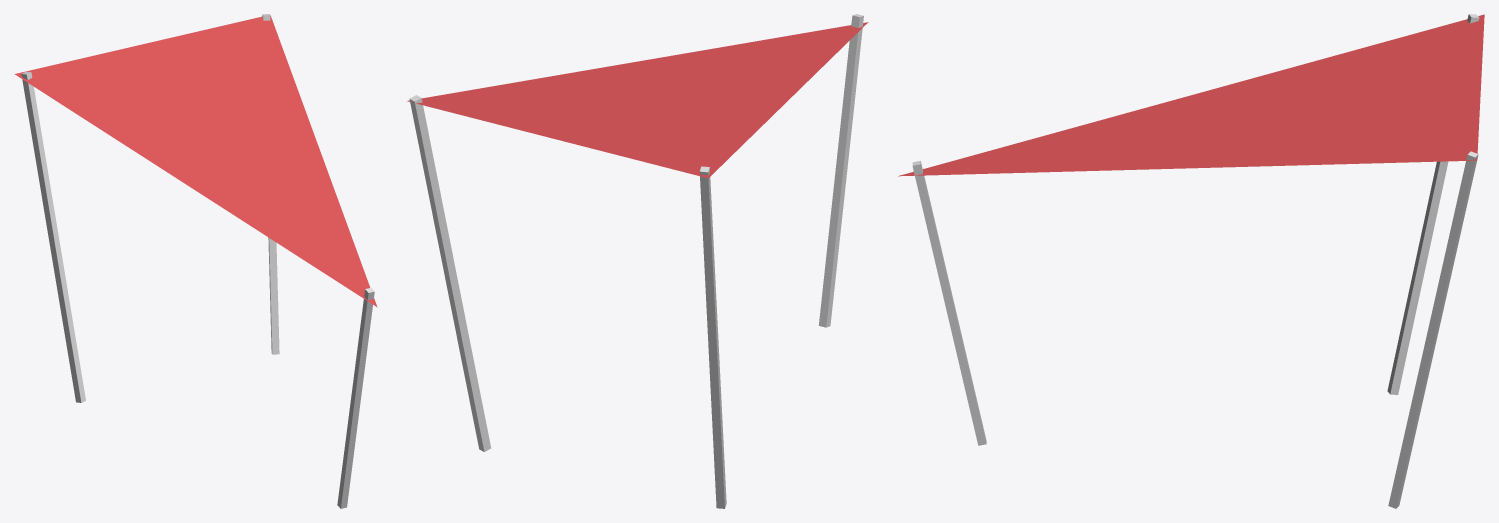
File: ShadeCloth.fbx
The picture shows the model from 3 angles, left to right: view 1: azimuth 30°, elevation 25°; view 2: azimuth 150°, elevation 25°; view 3: azimuth 270°, elevation 25°; orthographic projection. The views are drawn at different scales.
Parts seen in each view (by area): view 1: Plane.001, Cube.001, Cube, Cube.002; view 2: Plane.001, Cube.002, Cube, Cube.001; view 3: Plane.001, Cube.002, Cube.001, Cube.
Boxes of the visible parts, x1,y1,x2,y2 form: Plane.001: [14, 15, 377, 307]; Cube.001: [21, 71, 85, 402]; Cube: [337, 288, 374, 508]; Cube.002: [262, 14, 279, 354]; Plane.001: [407, 22, 868, 178]; Cube.002: [409, 95, 490, 451]; Cube: [818, 14, 863, 327]; Cube.001: [699, 166, 726, 508]; Plane.001: [898, 14, 1484, 176]; Cube.002: [1388, 151, 1478, 508]; Cube.001: [1387, 14, 1479, 394]; Cube: [912, 161, 986, 445].
Bounding box in the file's own units: 548 × 641 × 930.
